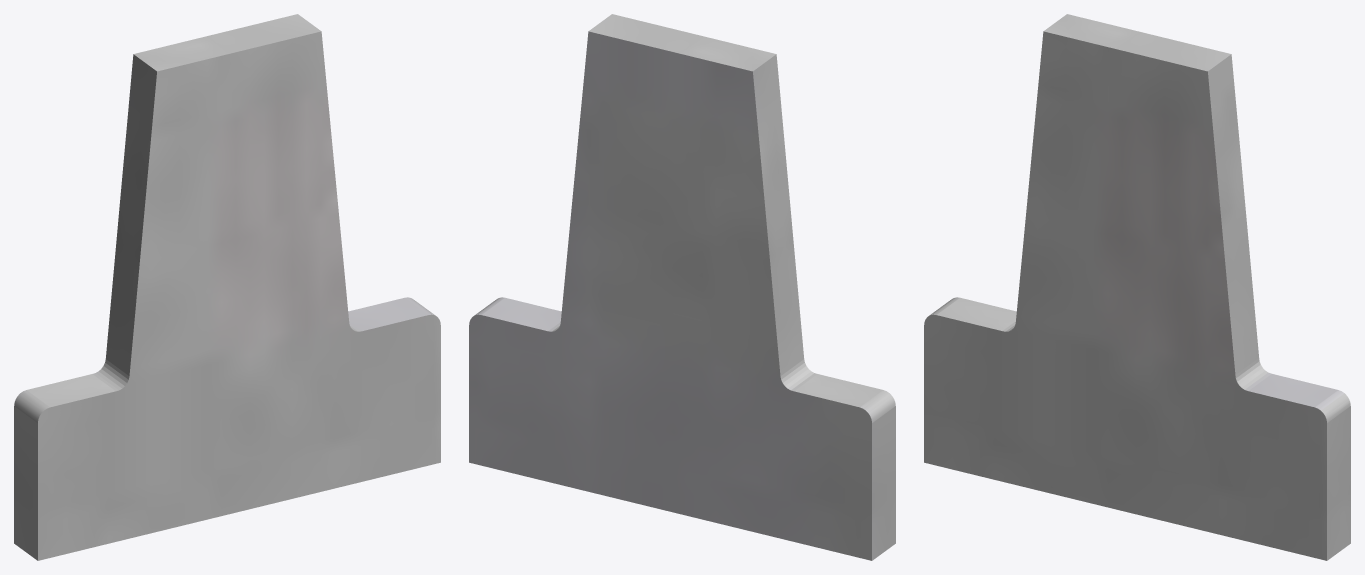
File: poutrain_beton_12.glb
3 renders of one model, left to right at view 1: azimuth 30°, elevation 25°; view 2: azimuth 150°, elevation 25°; view 3: azimuth 330°, elevation 25°, orthographic.
Size of the model in its own units: 9.8 by 10.7 by 1.
Materials: 1 (1 with a texture image).
